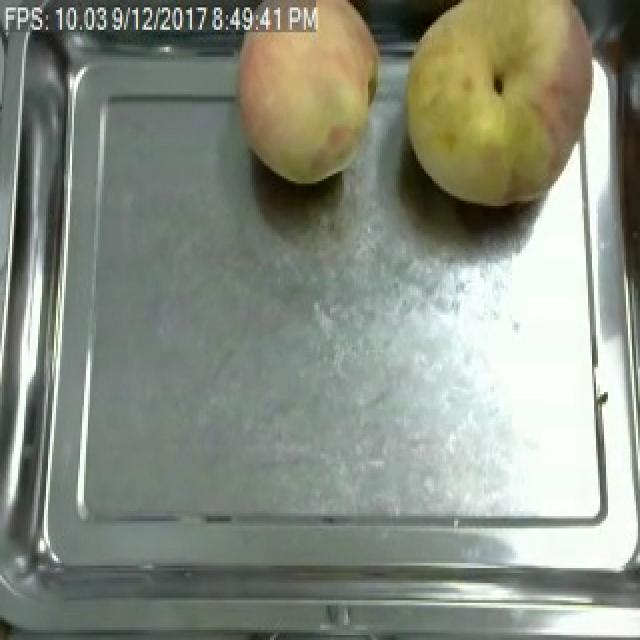Fruit: (388, 0, 616, 218), (224, 0, 394, 193)
